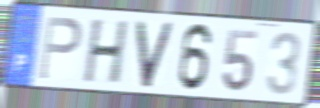3: (266, 30, 302, 97)
5: (221, 26, 261, 93)
6: (176, 22, 213, 93)
H: (81, 18, 132, 87)
P: (37, 14, 84, 83)
V: (134, 19, 176, 90)
